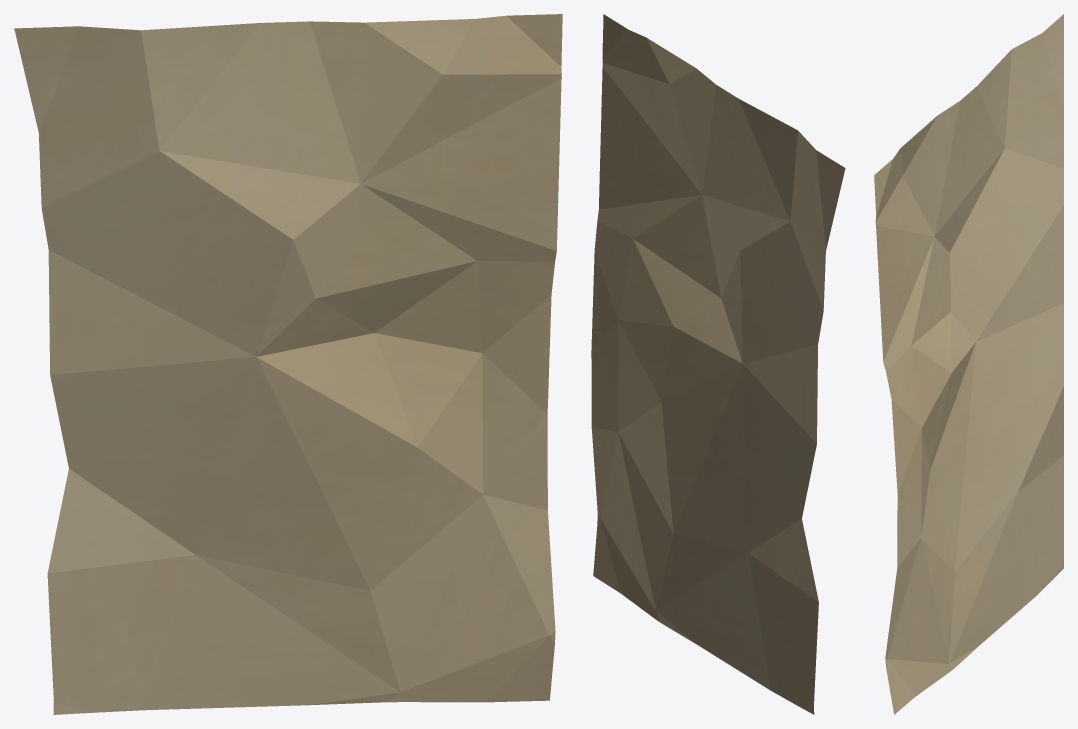
3 renders of one model, left to right at view 1: azimuth 30°, elevation 25°; view 2: azimuth 150°, elevation 25°; view 3: azimuth 270°, elevation 25°, orthographic. The views are drawn at different scales.
Size of the model in its own units: 0.5365 by 0.8374 by 0.2667.
2 materials, 2 textured.
